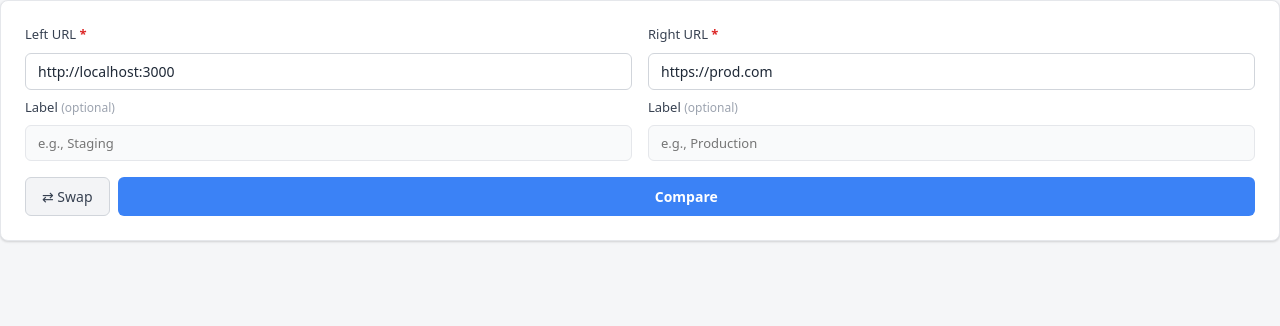
Scenario: ControlPlane › warning re-appears on subsequent submit with private IP
Click the button "Compare" at (686, 196), box [118,177,1255,216]
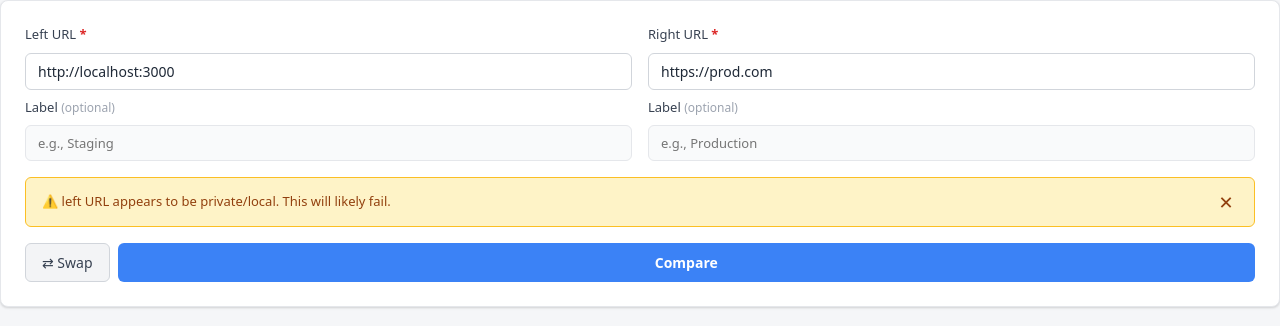
Check: the text "left URL appears to be private" is shown, box [62,192,276,210]
Click the button titled "Dismiss warning" at (1226, 202), box [1214,190,1238,214]
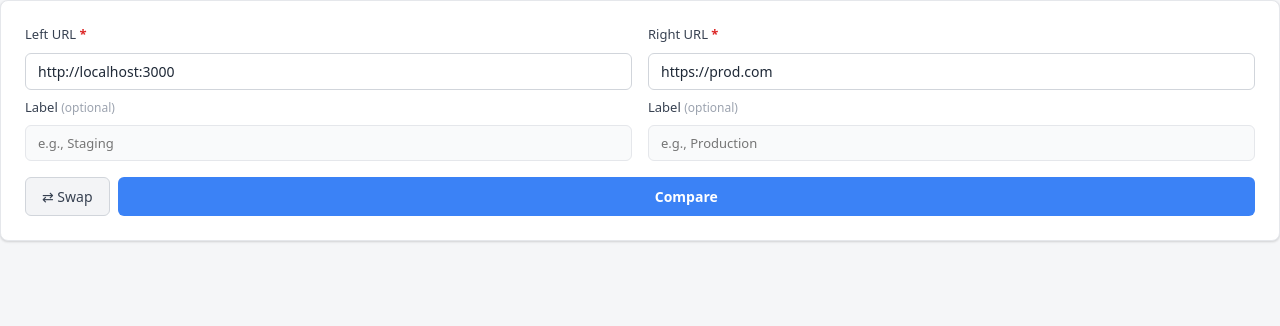
Check: the text "left URL appears to be private" is gone
Click the button "Compare" at (686, 196), box [118,177,1255,216]
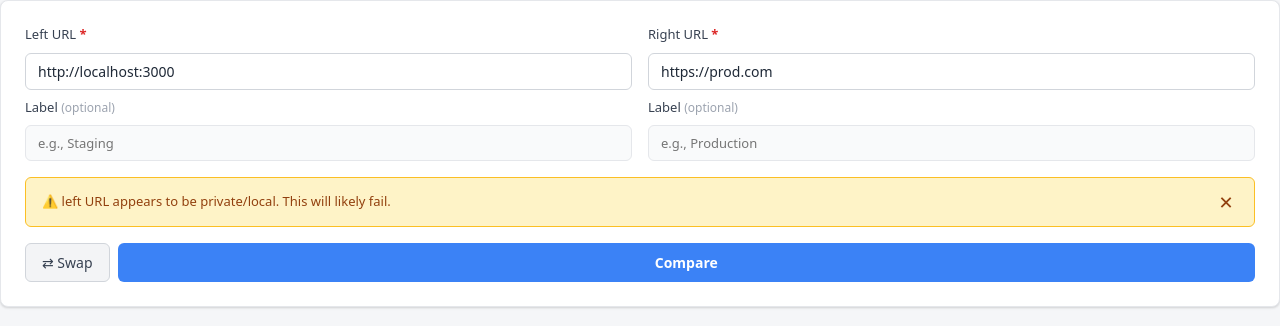
Check: the text "left URL appears to be private" is shown, box [62,192,276,210]
